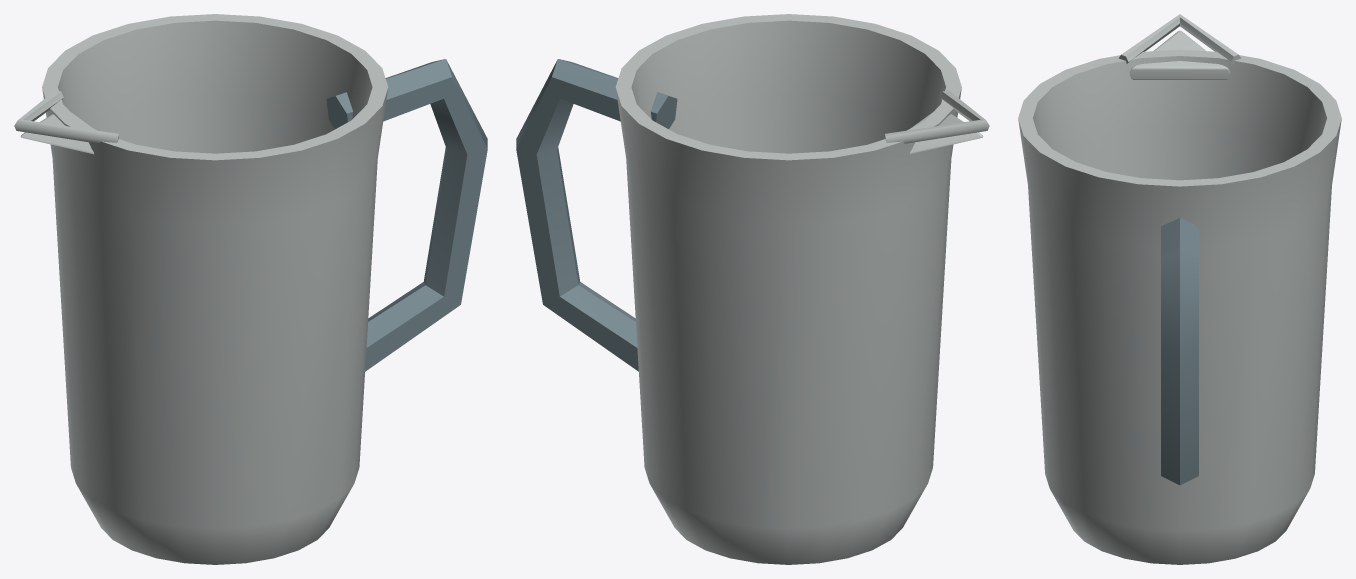
File: jug.glb
3 views of the same model, side by side, from view 1: azimuth 30°, elevation 25°; view 2: azimuth 150°, elevation 25°; view 3: azimuth 270°, elevation 25° (orthographic). The views are drawn at different scales.
Parts seen in each view (by area): view 1: pitcher, pitcher_handle, pour_rim, sculpted_pour_lip; view 2: pitcher, pitcher_handle, pour_rim, sculpted_pour_lip; view 3: pitcher, pitcher_handle, sculpted_pour_lip, pour_rim.
Part boxes in pixels (bbox=[...]): pitcher: bbox=[42, 14, 388, 564]; pitcher_handle: bbox=[326, 59, 487, 371]; pour_rim: bbox=[14, 90, 118, 143]; sculpted_pour_lip: bbox=[20, 111, 93, 154]; pitcher: bbox=[615, 14, 961, 564]; pitcher_handle: bbox=[516, 59, 677, 371]; pour_rim: bbox=[885, 90, 989, 143]; sculpted_pour_lip: bbox=[910, 111, 983, 154]; pitcher: bbox=[1018, 49, 1341, 564]; pitcher_handle: bbox=[1161, 218, 1198, 485]; sculpted_pour_lip: bbox=[1129, 31, 1230, 79]; pour_rim: bbox=[1119, 14, 1240, 63].
Bounding box in the file's own units: 0.2085 × 0.1863 × 0.132.
